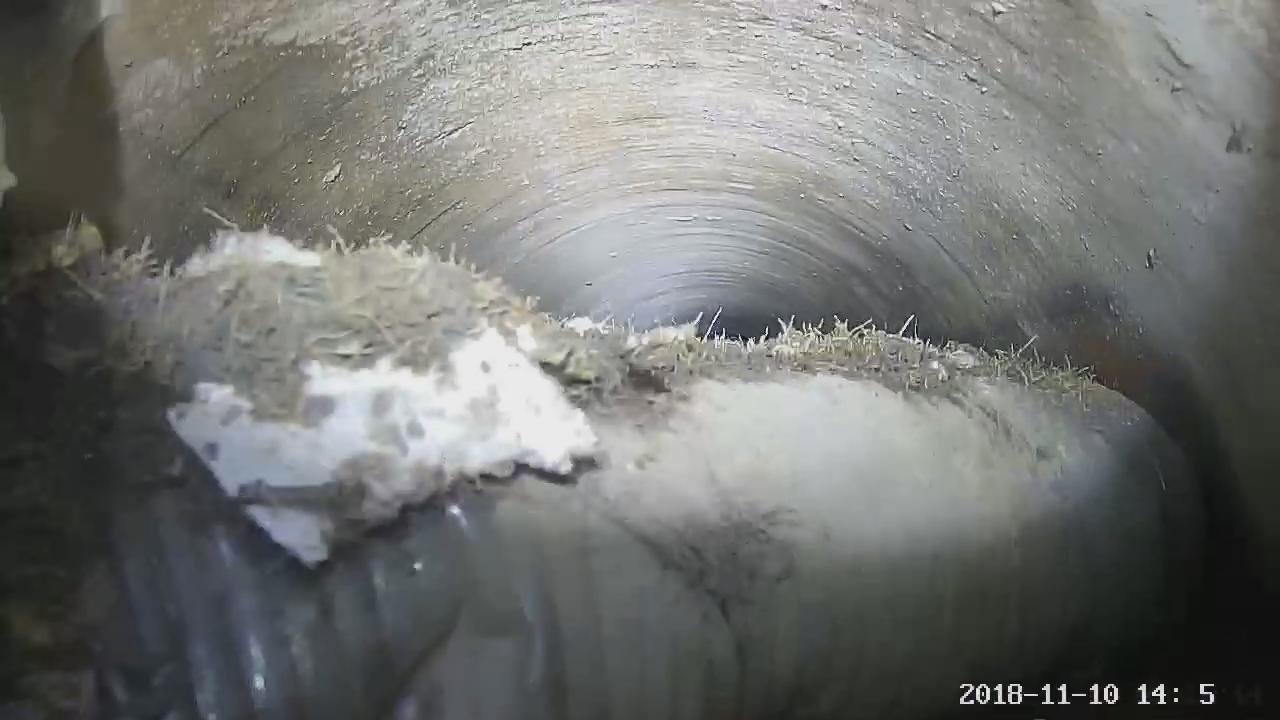YWCR: (0, 228, 1206, 719)
